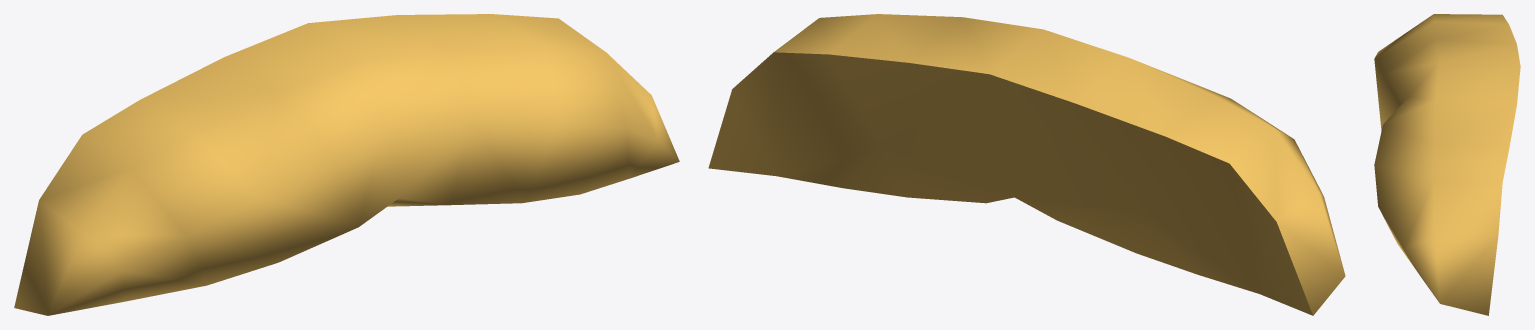
Rendered from Beard_Yellow_4.fbx.
3 views of the same model, side by side, from view 1: azimuth 30°, elevation 25°; view 2: azimuth 150°, elevation 25°; view 3: azimuth 270°, elevation 25° (orthographic). The views are drawn at different scales.
Parts seen in each view (by area): view 1: Beard_Yellow_4; view 2: Beard_Yellow_4; view 3: Beard_Yellow_4.
Boxes of the visible parts, bbox=[...] form: Beard_Yellow_4: bbox=[14, 14, 679, 315]; Beard_Yellow_4: bbox=[708, 14, 1345, 315]; Beard_Yellow_4: bbox=[1374, 14, 1520, 315].
Bounding box in the file's own units: 26.47 × 7.9 × 7.36.
